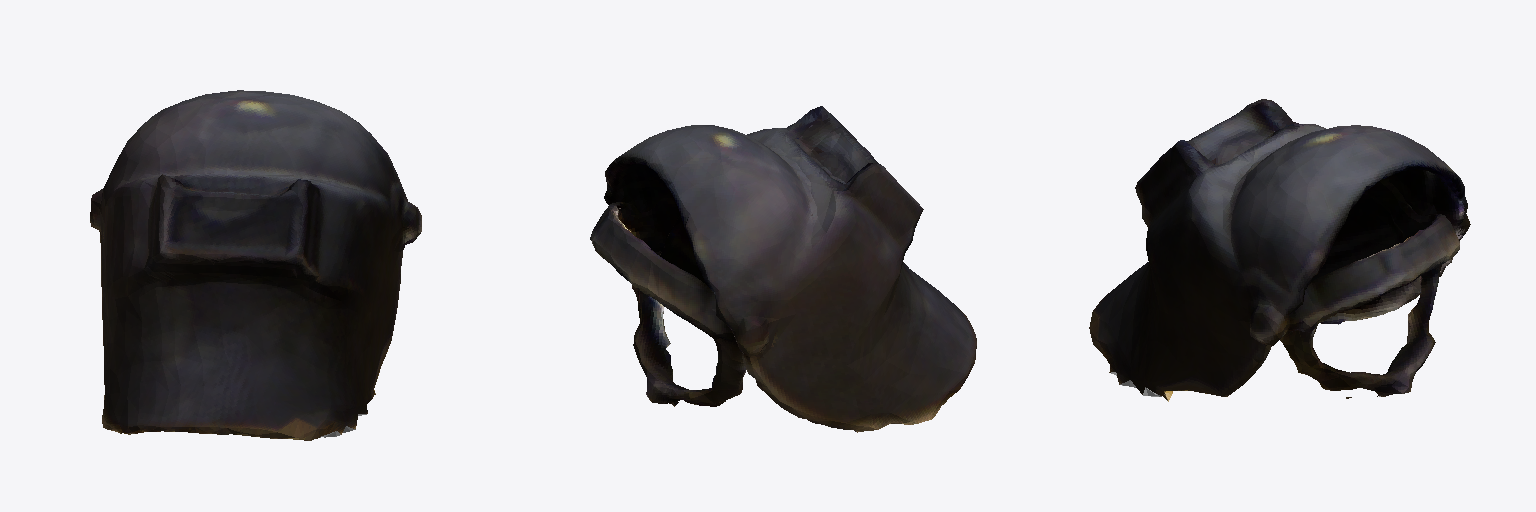
3 views of the same model, side by side, from view 1: azimuth 30°, elevation 25°; view 2: azimuth 150°, elevation 25°; view 3: azimuth 270°, elevation 25° (orthographic).
Parts seen in each view (by area): view 1: mmGroup0, mmGroup3; view 2: mmGroup0; view 3: mmGroup0, mmGroup3.
Boxes of the visible parts, x1,y1,x2,y2 form: mmGroup0: [90, 90, 421, 440]; mmGroup3: [320, 390, 375, 437]; mmGroup0: [590, 106, 976, 432]; mmGroup0: [1089, 99, 1470, 398]; mmGroup3: [1103, 352, 1172, 401].
Bounding box in the file's own units: 313 × 235 × 316.
2 materials, 1 textured.